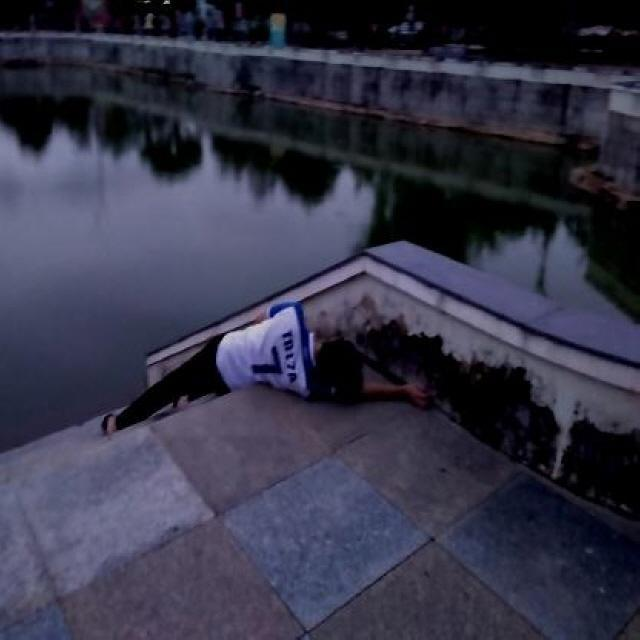Fall: (101, 302, 434, 436)
